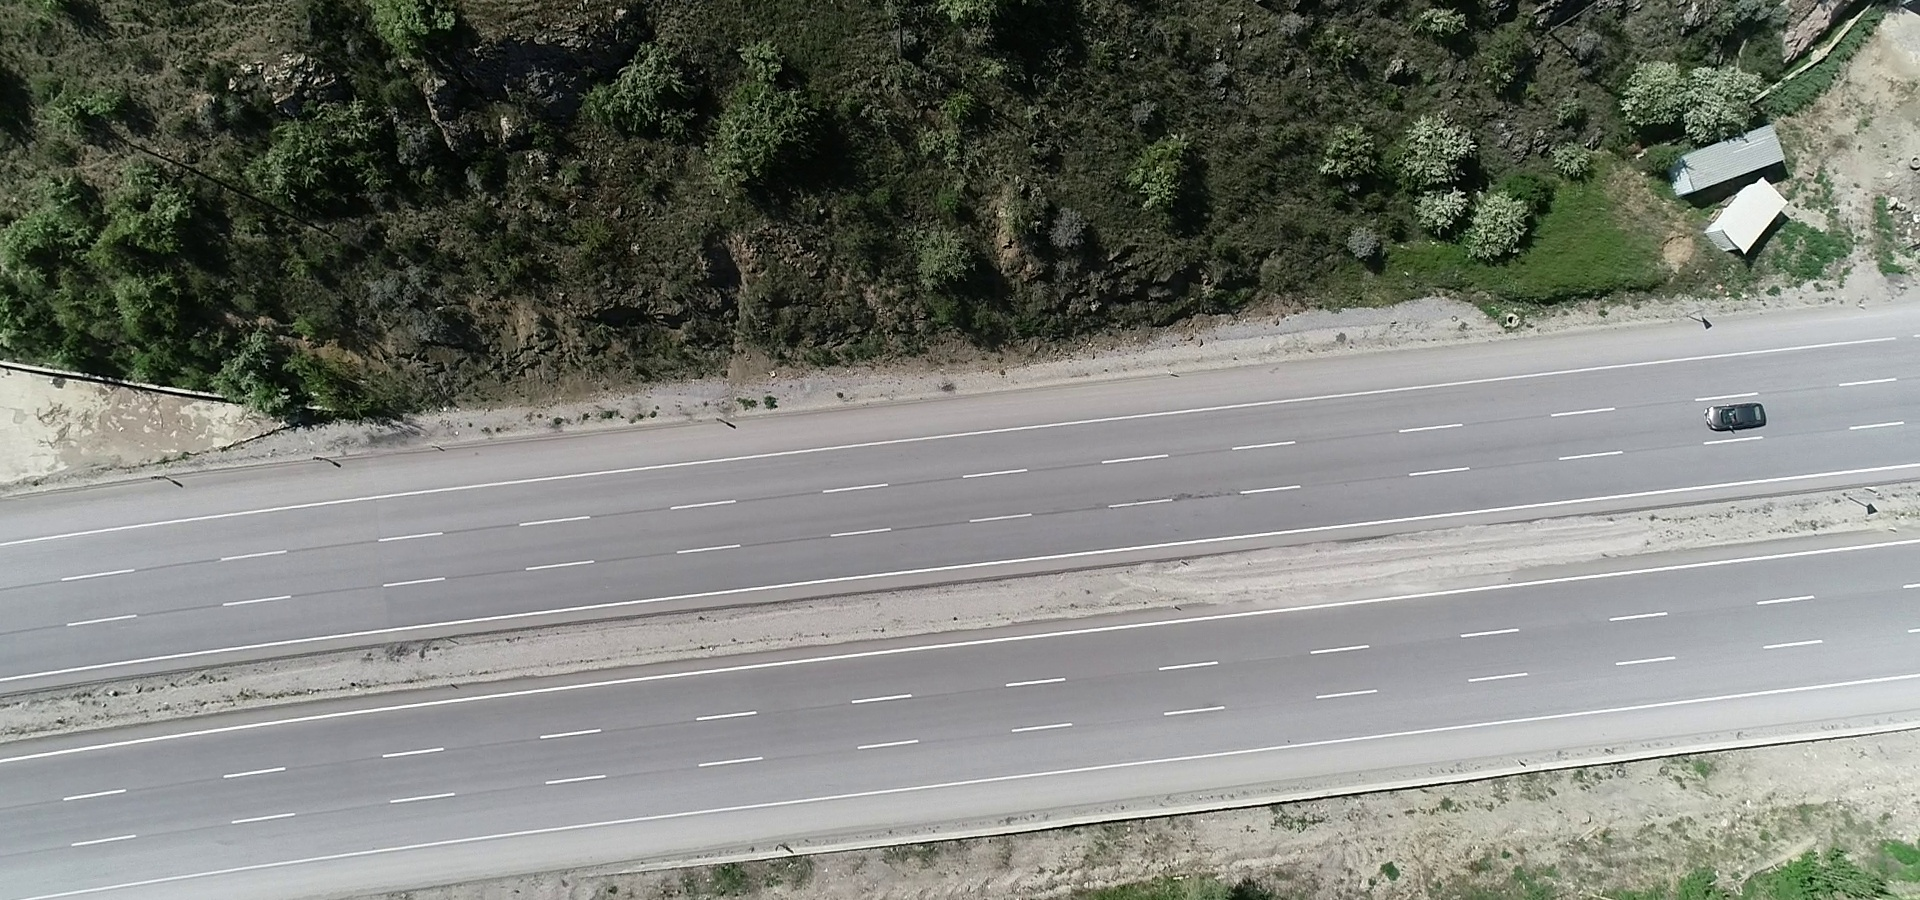arac: (1701, 394, 1782, 438)
